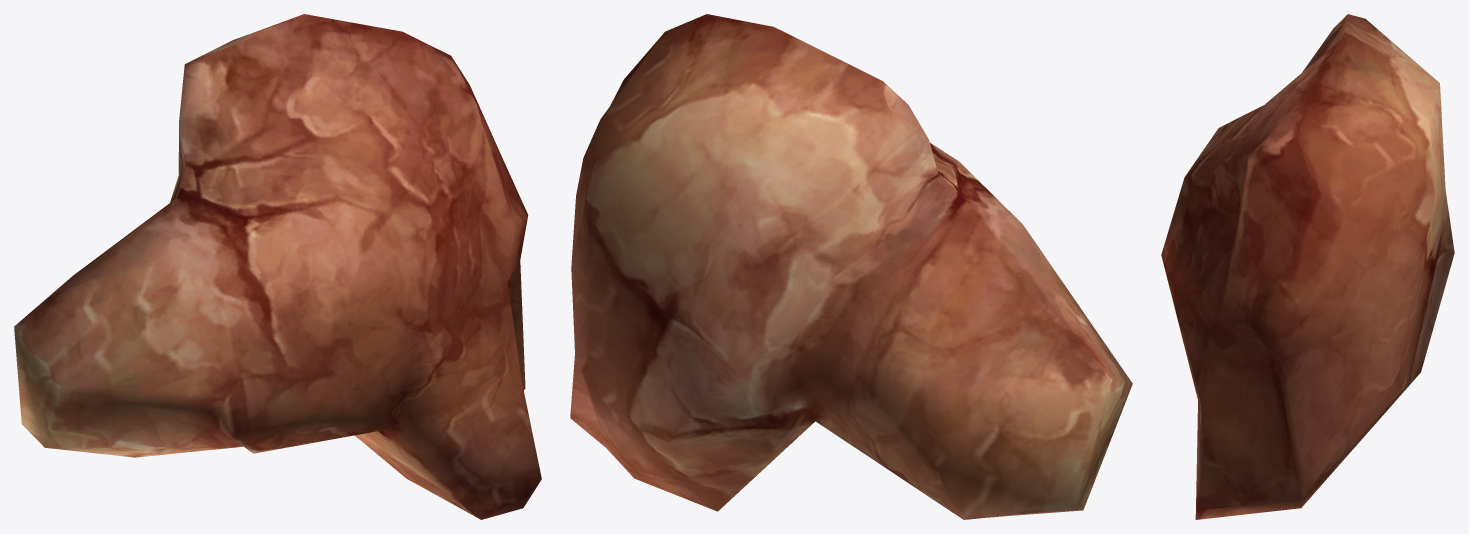
The model's file is kor_vod_rock_04.glb.
3 renders of one model, left to right at view 1: azimuth 30°, elevation 25°; view 2: azimuth 150°, elevation 25°; view 3: azimuth 270°, elevation 25°, orthographic. The views are drawn at different scales.
Parts seen in each view (by area): view 1: all_item_camp_fire_pit_sacrificial; view 2: all_item_camp_fire_pit_sacrificial; view 3: all_item_camp_fire_pit_sacrificial.
Part boxes in pixels (<box>): all_item_camp_fire_pit_sacrificial: <box>14,14,541,519</box>; all_item_camp_fire_pit_sacrificial: <box>570,14,1132,519</box>; all_item_camp_fire_pit_sacrificial: <box>1161,14,1454,519</box>.
Size of the model in its own units: 0.3374 by 0.3077 by 0.1927.
Materials: 1 (1 with a texture image).
